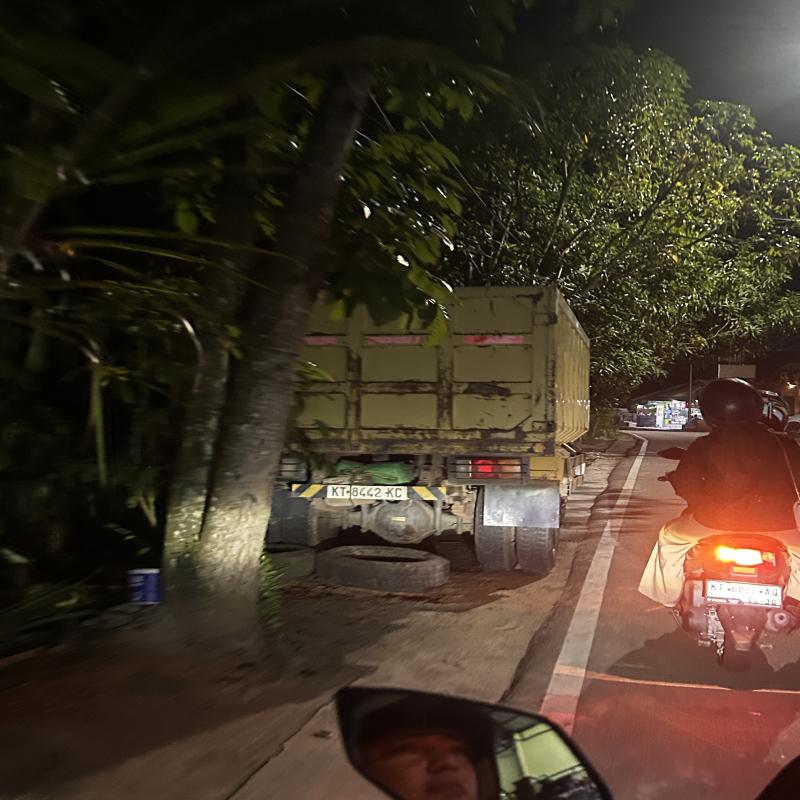license plate on a car: (331, 481, 416, 512)
